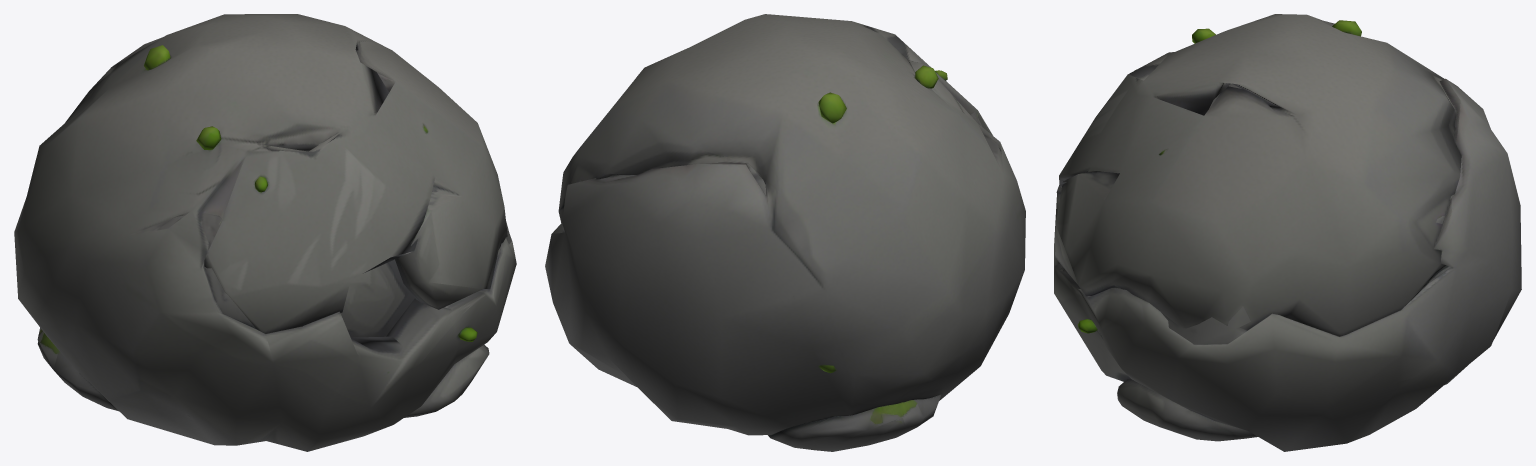
Rendered from cave-small.glb.
The picture shows the model from 3 angles, left to right: view 1: azimuth 30°, elevation 25°; view 2: azimuth 150°, elevation 25°; view 3: azimuth 270°, elevation 25°; orthographic projection. The views are drawn at different scales.
Size of the model in its own units: 1 by 0.8453 by 0.9983.
1 material, 1 textured.
